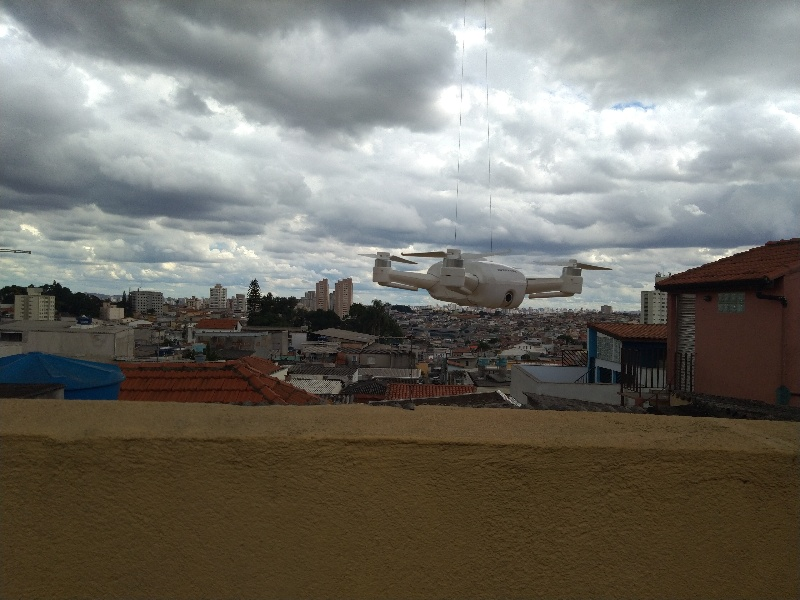drone: (356, 235, 613, 316)
